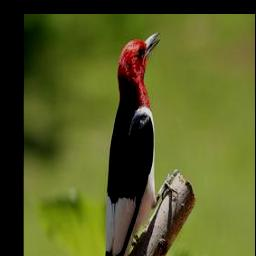Woodpecker: (93, 27, 166, 256)
